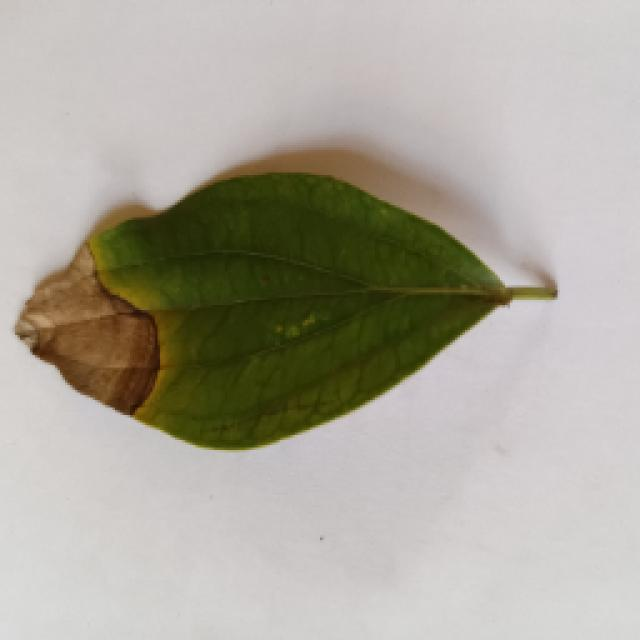footrot: (7, 138, 565, 450)
